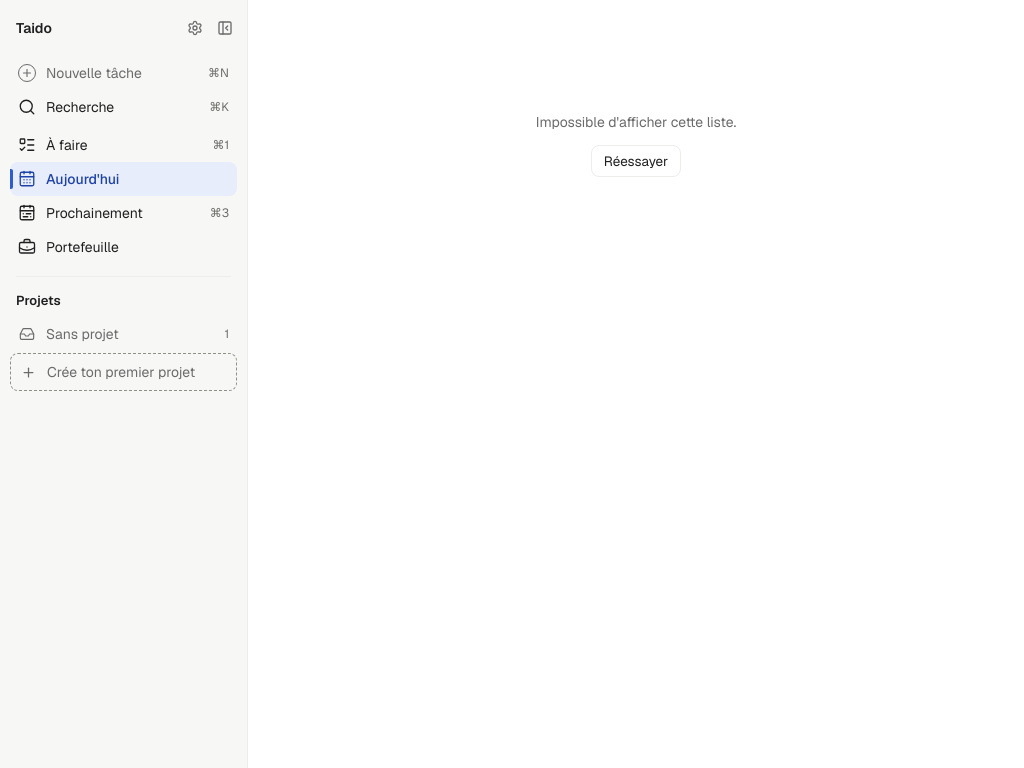
Test: Loading and errors › shows an error block with Réessayer
Expected: the message shows "Impossible d'afficher cette liste.", left=536, top=113, right=736, bottom=131
Click the button "Réessayer".
click(636, 161)  # box left=591, top=145, right=681, bottom=177
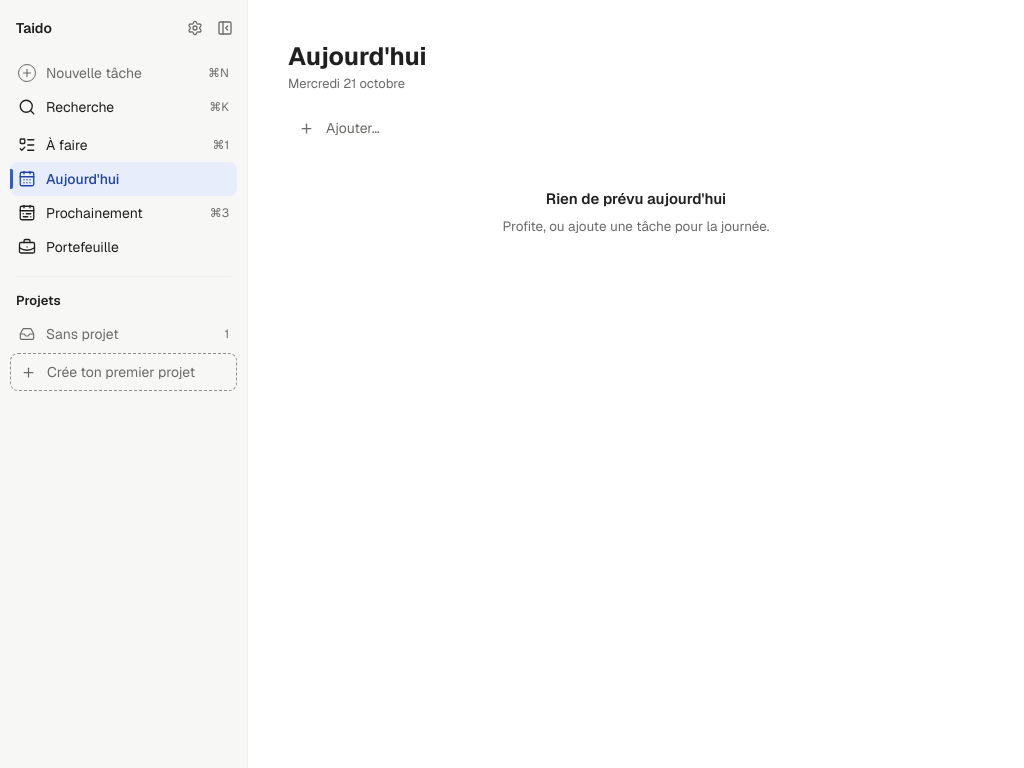
Expected: the heading "Aujourd'hui" is shown, left=288, top=40, right=426, bottom=72
